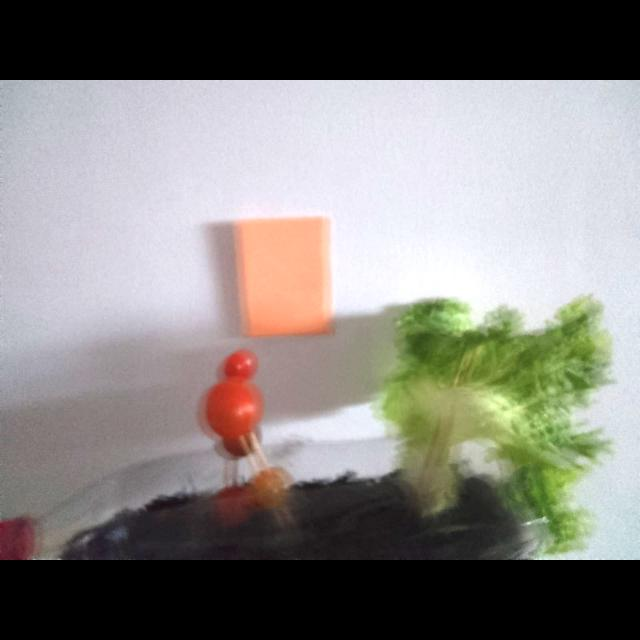card: (235, 217, 332, 336)
fruit_maturation: (251, 467, 291, 507)
fully_grown: (205, 350, 263, 443), (214, 485, 255, 526)
